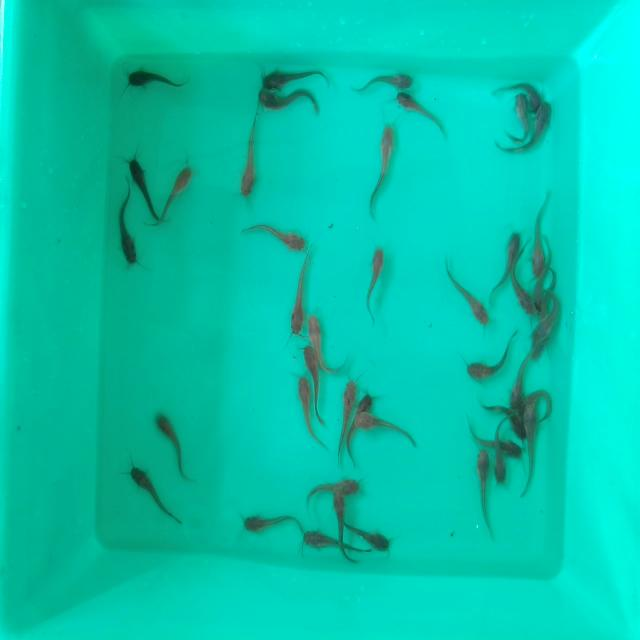lele: (441, 264, 489, 330), (125, 464, 176, 519), (368, 123, 396, 220), (153, 413, 194, 477), (154, 162, 195, 225), (237, 114, 264, 200), (465, 332, 511, 382), (257, 88, 325, 120), (115, 191, 142, 270), (347, 388, 373, 468), (348, 515, 395, 559), (357, 412, 422, 442), (260, 64, 332, 90), (366, 246, 389, 324), (243, 224, 307, 251), (346, 70, 415, 95), (476, 401, 525, 436), (310, 313, 338, 374), (328, 490, 352, 561), (126, 154, 154, 214), (290, 252, 310, 336), (335, 377, 357, 453), (125, 65, 196, 87), (239, 507, 301, 532), (394, 90, 444, 120), (526, 102, 554, 155), (513, 253, 535, 320), (529, 202, 550, 271), (531, 314, 558, 366), (497, 226, 522, 282), (476, 447, 491, 538), (474, 431, 524, 458), (491, 78, 541, 105), (306, 476, 366, 498), (522, 408, 537, 496), (523, 381, 556, 420), (300, 526, 346, 553), (292, 381, 313, 439), (509, 354, 528, 411), (505, 93, 528, 140), (300, 346, 319, 395), (542, 268, 557, 326), (494, 418, 505, 485), (535, 270, 547, 312)
